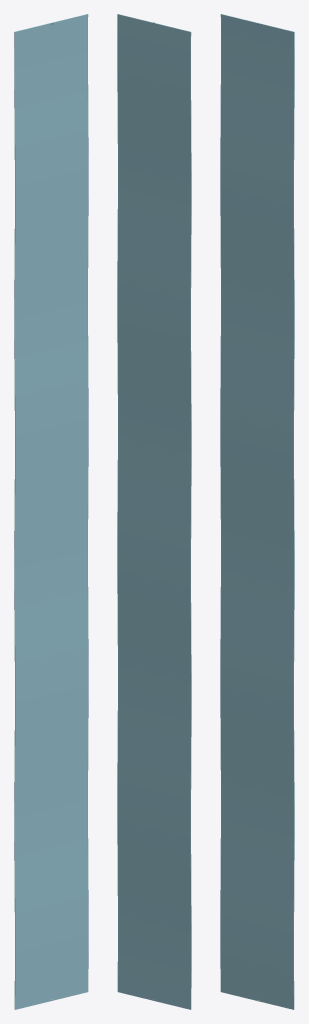
3 views of the same model, side by side, from view 1: azimuth 30°, elevation 25°; view 2: azimuth 150°, elevation 25°; view 3: azimuth 330°, elevation 25° (orthographic).
Visible parts, largest first — view 1: 瀑宽流量与分帘形态族; view 2: 瀑宽流量与分帘形态族; view 3: 瀑宽流量与分帘形态族.
Part boxes in pixels (x1=…): 瀑宽流量与分帘形态族: x1=14, y1=14, x2=88, y2=1009; 瀑宽流量与分帘形态族: x1=117, y1=14, x2=191, y2=1009; 瀑宽流量与分帘形态族: x1=220, y1=14, x2=294, y2=1009.
Bounding box in the file's own units: 12 × 153 × 0.28.
